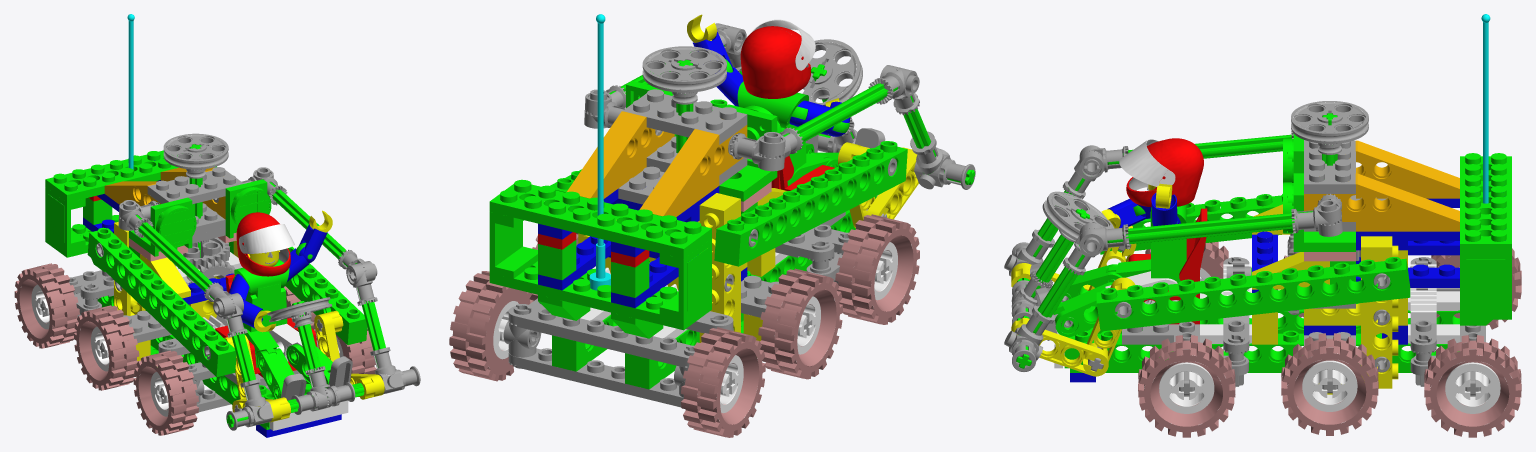
Rendered from Buggy.gltf.
3 renders of one model, left to right at view 1: azimuth 30°, elevation 25°; view 2: azimuth 150°, elevation 25°; view 3: azimuth 270°, elevation 25°, orthographic. The views are drawn at different scales.
Parts seen in each view (by area): view 1: body_115 (×3), prt_1_12_SOLIDS_1, body_113, prt_2_8_t_SOLIDS_4, body_64 (×5), prt_1_12_SOLIDS_3, body_21, body_82, technic_driver_torso_p_SOLIDS_1, body_70 (×2), technic_1_2_side_p_SOLIDS_3, technic_driver_helmet_p_SOLIDS_1 (+42 smaller); view 2: body_115 (×3), prt_1_12_SOLIDS_1, prt_2_8_t_SOLIDS_4, body_113, body_107 (×4), body_64 (×7), body_68, body_23, technic_driver_helmet_p_SOLIDS_1, prt_2_8_t_SOLIDS_1, body_21, body_82 (+31 smaller); view 3: body_115 (×4), prt_1_12_SOLIDS_3, body_114 (×3), prt_2_8_t_SOLIDS_4, body_23, body_64 (×5), prt_1_16_SOLIDS_1, body_68, prt_1_6_SOLIDS_1, technic_1_2_side_p_SOLIDS_1, body_59 (×3), technic_driver_helmet_p_SOLIDS_1 (+34 smaller).
Boxes of the visible parts, bbox=[...] form: body_115 (×3): bbox=[74, 305, 376, 435]; prt_1_12_SOLIDS_1: bbox=[87, 227, 236, 377]; body_113: bbox=[14, 263, 79, 348]; prt_2_8_t_SOLIDS_4: bbox=[45, 144, 197, 202]; body_64 (×5): bbox=[119, 202, 377, 337]; prt_1_12_SOLIDS_3: bbox=[285, 246, 367, 344]; body_21: bbox=[147, 167, 243, 204]; body_82: bbox=[163, 133, 228, 169]; technic_driver_torso_p_SOLIDS_1: bbox=[234, 259, 289, 332]; body_70 (×2): bbox=[314, 310, 384, 399]; technic_1_2_side_p_SOLIDS_3: bbox=[45, 187, 85, 249]; technic_driver_helmet_p_SOLIDS_1: bbox=[236, 212, 290, 276]; body_115 (×3): bbox=[449, 214, 919, 381]; prt_1_12_SOLIDS_1: bbox=[714, 141, 907, 266]; prt_2_8_t_SOLIDS_4: bbox=[489, 179, 711, 258]; body_113: bbox=[681, 327, 765, 437]; body_107 (×4): bbox=[508, 224, 844, 368]; body_64 (×7): bbox=[584, 26, 919, 171]; body_68: bbox=[639, 125, 747, 216]; body_23: bbox=[567, 111, 674, 198]; technic_driver_helmet_p_SOLIDS_1: bbox=[740, 26, 810, 98]; prt_2_8_t_SOLIDS_1: bbox=[489, 261, 711, 330]; body_21: bbox=[622, 89, 747, 144]; body_82: bbox=[642, 46, 726, 92]; body_115 (×4): bbox=[1138, 241, 1521, 437]; prt_1_12_SOLIDS_3: bbox=[1096, 257, 1410, 331]; body_114 (×3): bbox=[1159, 353, 1500, 413]; prt_2_8_t_SOLIDS_4: bbox=[1460, 153, 1511, 253]; body_23: bbox=[1304, 173, 1459, 231]; body_64 (×5): bbox=[1062, 145, 1341, 275]; prt_1_16_SOLIDS_1: bbox=[1070, 330, 1459, 372]; body_68: bbox=[1355, 140, 1459, 198]; prt_1_6_SOLIDS_1: bbox=[1361, 236, 1398, 388]; technic_1_2_side_p_SOLIDS_1: bbox=[1460, 253, 1511, 309]; body_59 (×3): bbox=[1252, 231, 1459, 292]; technic_driver_helmet_p_SOLIDS_1: bbox=[1126, 138, 1203, 207].
Bounding box in the file's own units: 87.04 × 124 × 159.
